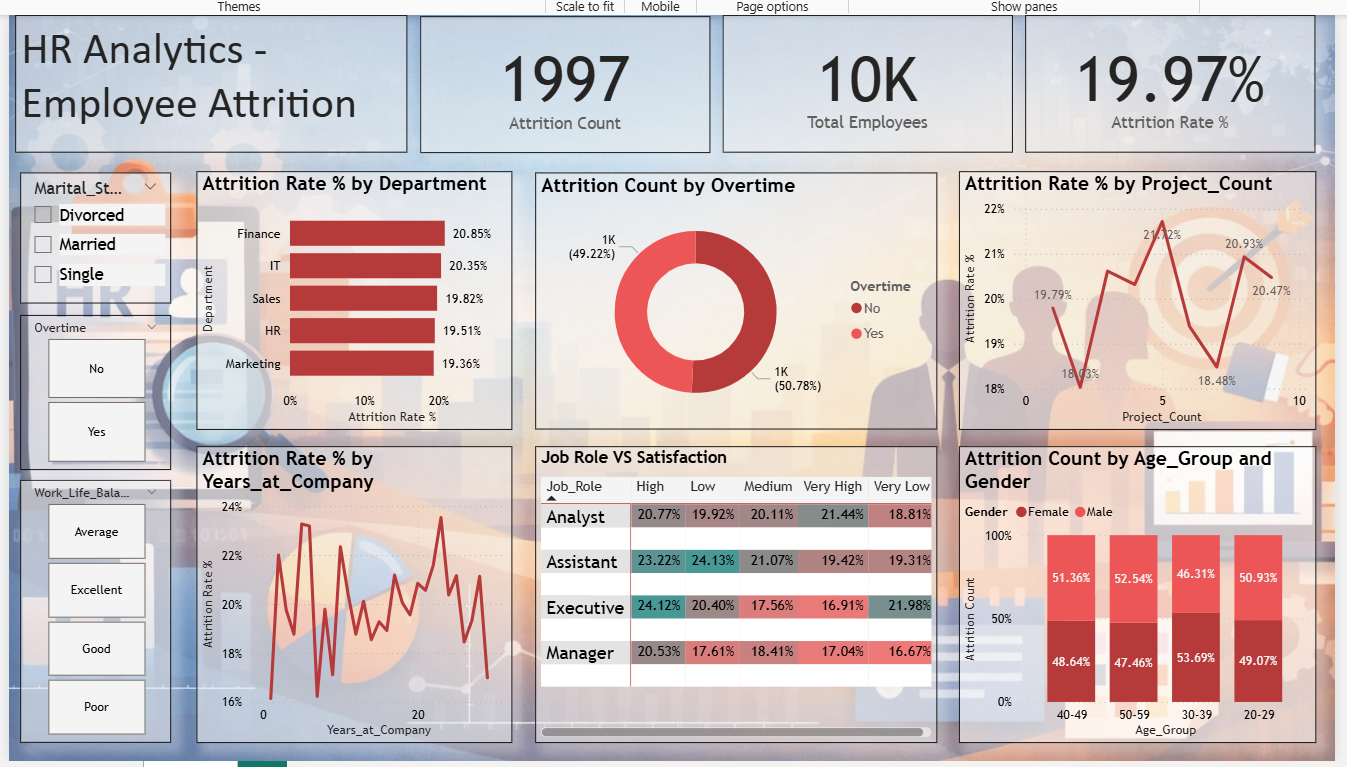

The page's visual inventory and layout, read from the dashboard file:
{"tool":"powerbi","page":{"name":"Page 1","canvas":[1280,720],"ordinal":0},"visuals":[{"type":"card","fields":{"Values":["Clean_employee_attrition_dataset_10000.Total Employees"]},"box":[688.9,0,279.9,133.1],"z":0},{"type":"card","fields":{"Values":["Clean_employee_attrition_dataset_10000.Attrition Count"]},"box":[396.6,1.4,279.9,131.7],"z":1000},{"type":"card","fields":{"Values":["Clean_employee_attrition_dataset_10000.Attrition Rate %"]},"box":[981.1,0,279.9,133.1],"z":2000},{"type":"clusteredBarChart","fields":{"Y":["Clean_employee_attrition_dataset_10000.Attrition Rate %"],"Category":["Clean_employee_attrition_dataset_10000.Department"]},"box":[181.1,150.9,304.6,249.7],"z":3000},{"type":"hundredPercentStackedColumnChart","fields":{"Category":["Clean_employee_attrition_dataset_10000.Age_Group"],"Y":["Clean_employee_attrition_dataset_10000.Attrition Count"],"Series":["Clean_employee_attrition_dataset_10000.Gender"]},"box":[916.6,415.8,344.4,286.8],"z":4000},{"type":"donutChart","fields":{"Category":["Clean_employee_attrition_dataset_10000.Overtime"],"Y":["Clean_employee_attrition_dataset_10000.Attrition Count"]},"box":[507.7,152.3,388.3,248.4],"z":5000},{"type":"pivotTable","title":"Job Role VS Satisfaction","fields":{"Columns":["Clean_employee_attrition_dataset_10000.Satisfaction_level"],"Values":["Clean_employee_attrition_dataset_10000.Attrition Rate %"],"Rows":["Clean_employee_attrition_dataset_10000.Job_Role"]},"box":[507.7,415.8,388.3,286.8],"z":6000},{"type":"lineChart","fields":{"Y":["Clean_employee_attrition_dataset_10000.Attrition Rate %"],"Category":["Clean_employee_attrition_dataset_10000.Years_at_Company"]},"box":[181.1,415.8,304.6,286.8],"z":7000},{"type":"slicer","fields":{"Values":["Clean_employee_attrition_dataset_10000.Marital_Status"]},"box":[11,152.3,145.5,126.2],"z":8000},{"type":"slicer","title":"Work_Life_Balance","fields":{"Values":["Clean_employee_attrition_dataset_10000.Wlb_Label"]},"box":[11,448.7,145.5,253.9],"z":9000},{"type":"slicer","fields":{"Values":["Clean_employee_attrition_dataset_10000.Overtime"]},"box":[11,289.5,145.5,149.6],"z":10000},{"type":"lineChart","fields":{"Y":["Clean_employee_attrition_dataset_10000.Attrition Rate %"],"Category":["Clean_employee_attrition_dataset_10000.Project_Count"]},"box":[916.6,150.9,344.4,249.7],"z":11000},{"type":"textbox","box":[5.5,0,378.7,133.1],"z":12000}]}

Visuals, with their boxes in screenshot pixels (x1, y1, x2, y2):
card - Clean_employee_attrition_dataset_10000.Total Employees: {"x1": 722, "y1": 11, "x2": 1012, "y2": 149}
card - Clean_employee_attrition_dataset_10000.Attrition Count: {"x1": 419, "y1": 12, "x2": 709, "y2": 149}
card - Clean_employee_attrition_dataset_10000.Attrition Rate %: {"x1": 1025, "y1": 11, "x2": 1316, "y2": 149}
clusteredBarChart - Clean_employee_attrition_dataset_10000.Attrition Rate % x Clean_employee_attrition_dataset_10000.Department: {"x1": 195, "y1": 167, "x2": 511, "y2": 426}
hundredPercentStackedColumnChart - Clean_employee_attrition_dataset_10000.Age_Group x Clean_employee_attrition_dataset_10000.Attrition Count: {"x1": 958, "y1": 442, "x2": 1316, "y2": 740}
donutChart - Clean_employee_attrition_dataset_10000.Overtime x Clean_employee_attrition_dataset_10000.Attrition Count: {"x1": 534, "y1": 169, "x2": 937, "y2": 426}
"Job Role VS Satisfaction" pivotTable: {"x1": 534, "y1": 442, "x2": 937, "y2": 740}
lineChart - Clean_employee_attrition_dataset_10000.Attrition Rate % x Clean_employee_attrition_dataset_10000.Years_at_Company: {"x1": 195, "y1": 442, "x2": 511, "y2": 740}
slicer - Clean_employee_attrition_dataset_10000.Marital_Status: {"x1": 18, "y1": 169, "x2": 169, "y2": 300}
"Work_Life_Balance" slicer: {"x1": 18, "y1": 476, "x2": 169, "y2": 740}
slicer - Clean_employee_attrition_dataset_10000.Overtime: {"x1": 18, "y1": 311, "x2": 169, "y2": 466}
lineChart - Clean_employee_attrition_dataset_10000.Attrition Rate % x Clean_employee_attrition_dataset_10000.Project_Count: {"x1": 958, "y1": 167, "x2": 1316, "y2": 426}
textbox: {"x1": 13, "y1": 11, "x2": 406, "y2": 149}
